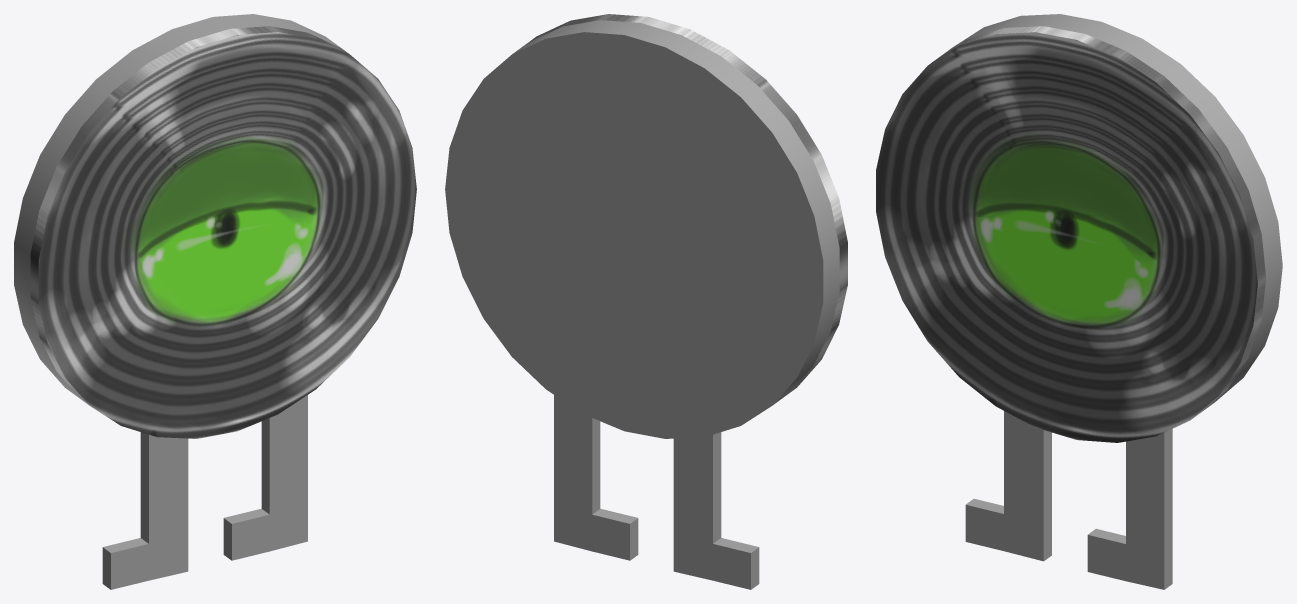
The model's file is diskman_green.fbx.
3 renders of one model, left to right at view 1: azimuth 30°, elevation 25°; view 2: azimuth 150°, elevation 25°; view 3: azimuth 330°, elevation 25°, orthographic.
Visible parts, largest first — view 1: pCylinder1; view 2: pCylinder1; view 3: pCylinder1.
Part boxes in pixels (left/top/right/bottom): pCylinder1: left=14, top=14, right=416, bottom=589; pCylinder1: left=445, top=14, right=847, bottom=589; pCylinder1: left=876, top=14, right=1282, bottom=589.
Bounding box in the file's own units: 7.98 × 10.74 × 0.903.
Materials: 3 (2 with a texture image).
